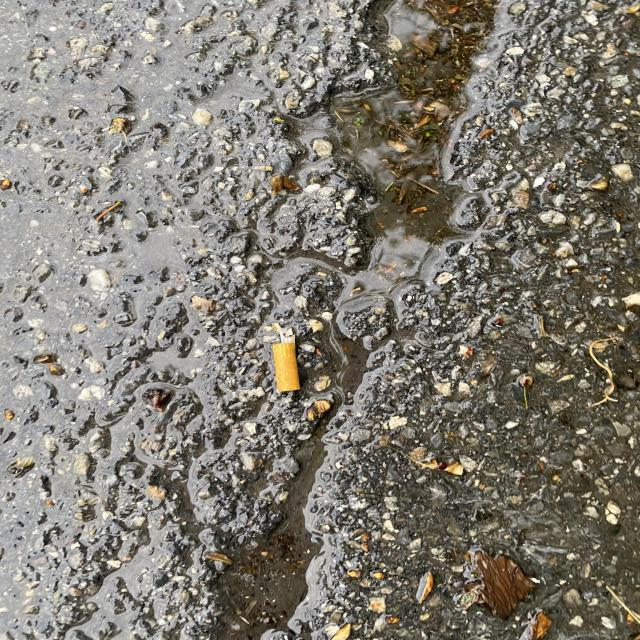other waste: (272, 326, 301, 392)
